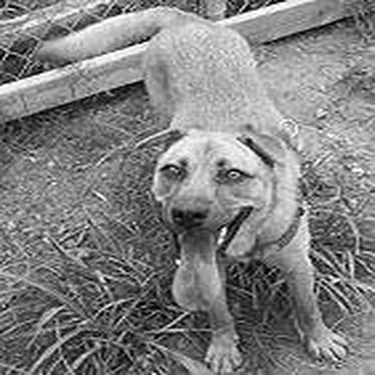dog: (29, 1, 356, 374)
